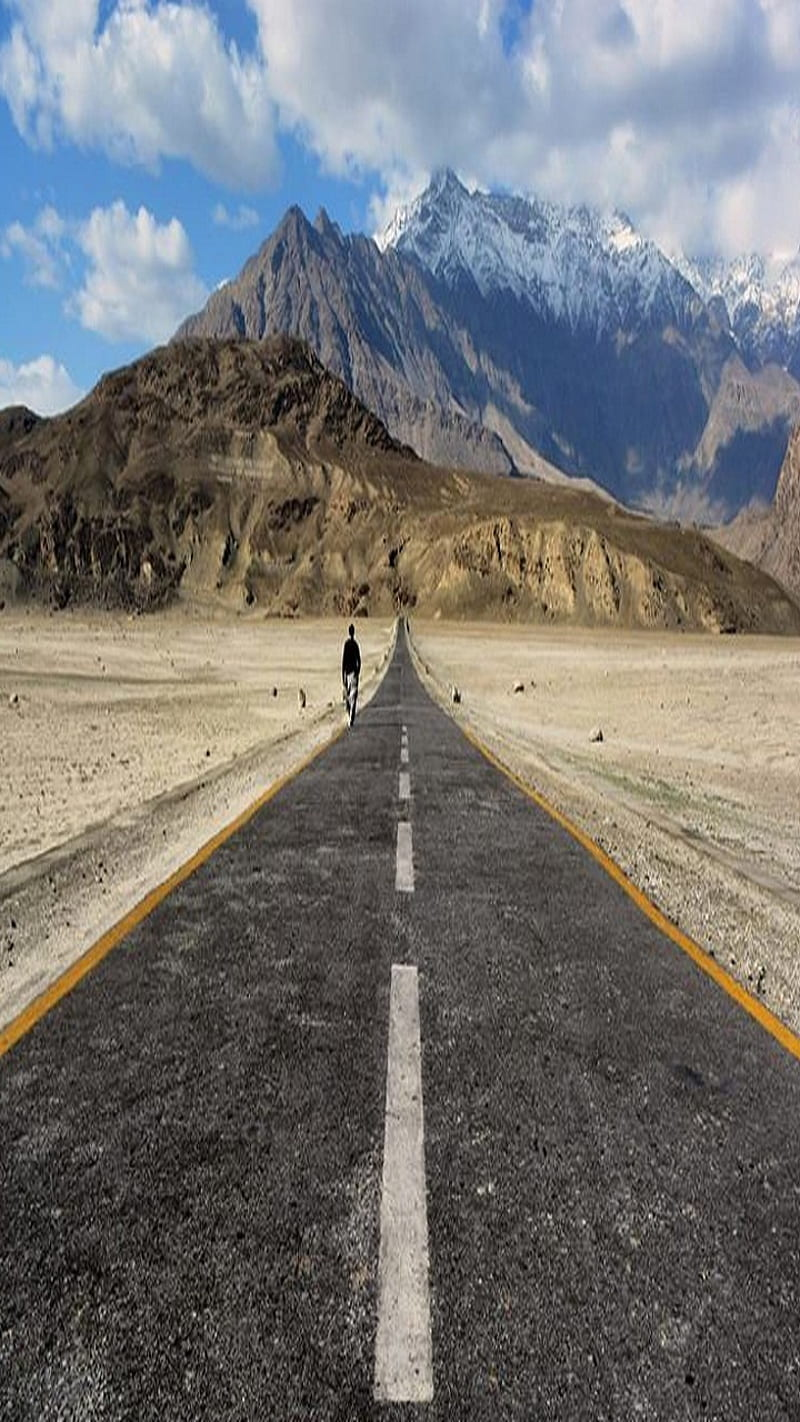straightRoad: (86, 691, 744, 1353)
